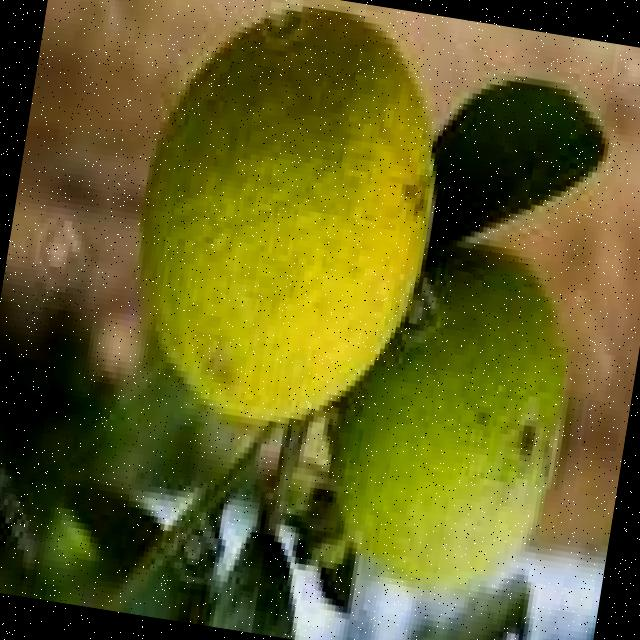Unripe: (110, 0, 461, 445), (306, 227, 586, 606)
